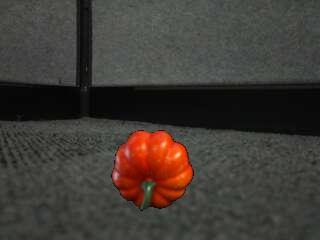Pumpkin: (113, 130, 194, 211)
